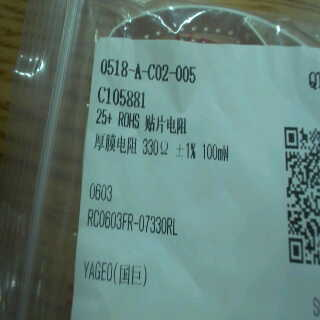330R: (141, 134, 169, 160)
